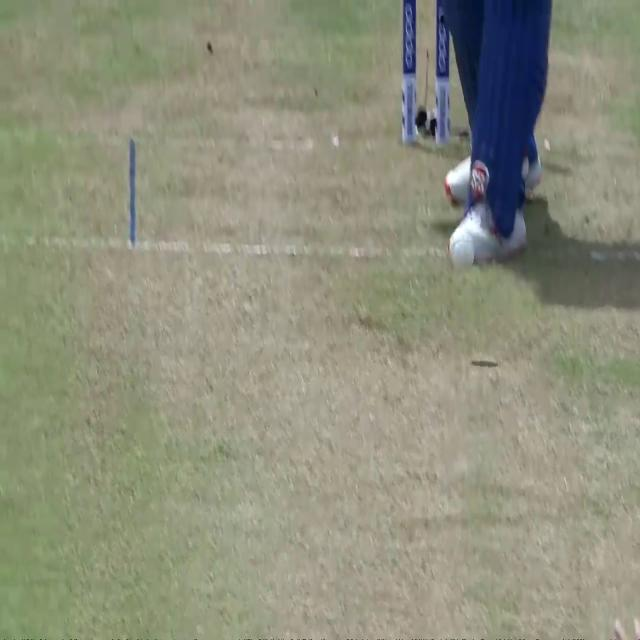ball: (450, 225, 476, 275)
